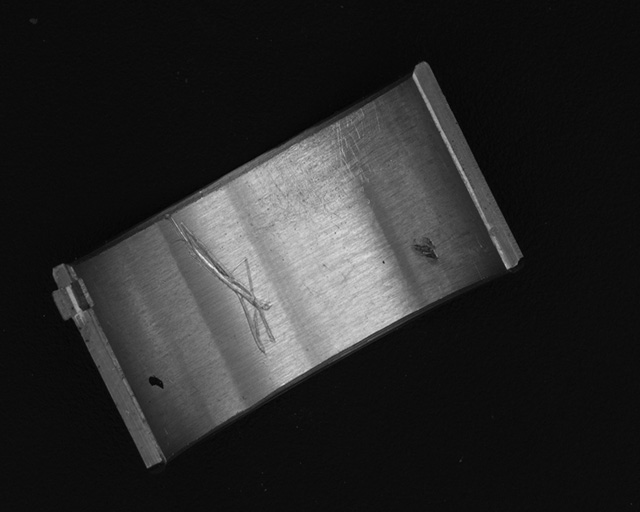blot: (146, 375, 165, 391)
bruise: (413, 237, 440, 264)
nick: (166, 215, 279, 358)
scratch: (268, 105, 383, 210)
